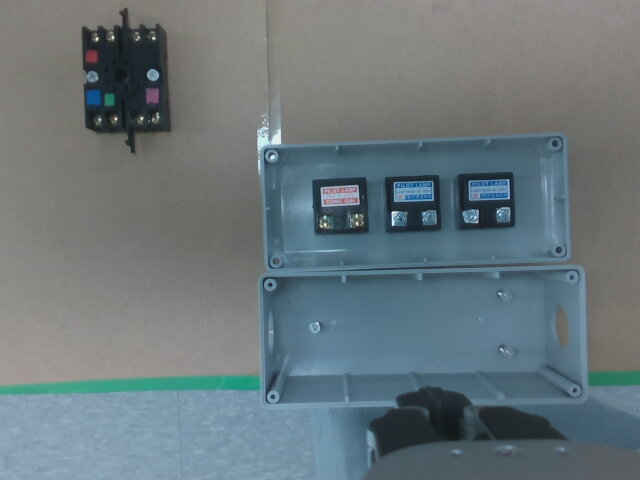L1(1): (319, 216, 332, 229)
L1(2): (350, 214, 364, 227)
L2(1): (391, 211, 407, 226)
L2(2): (421, 211, 437, 226)
L3(1): (463, 209, 479, 224)
L3(2): (496, 208, 510, 222)
